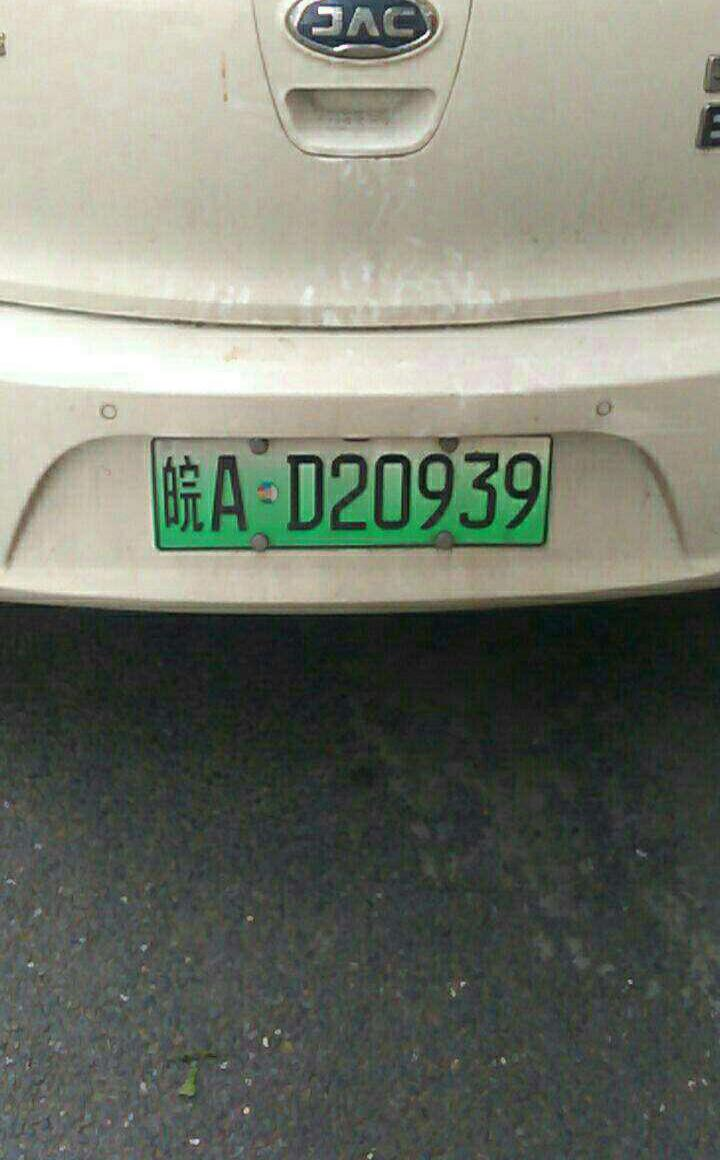car_green: (149, 434, 557, 554)
